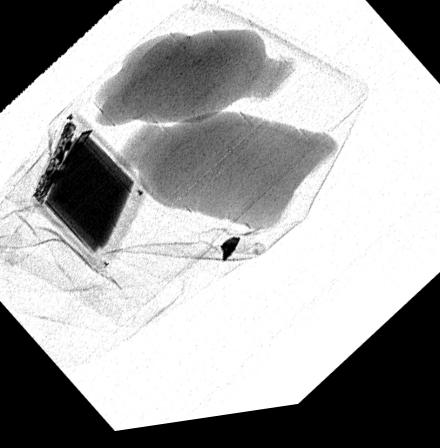Powerbank: (26, 113, 149, 274)
